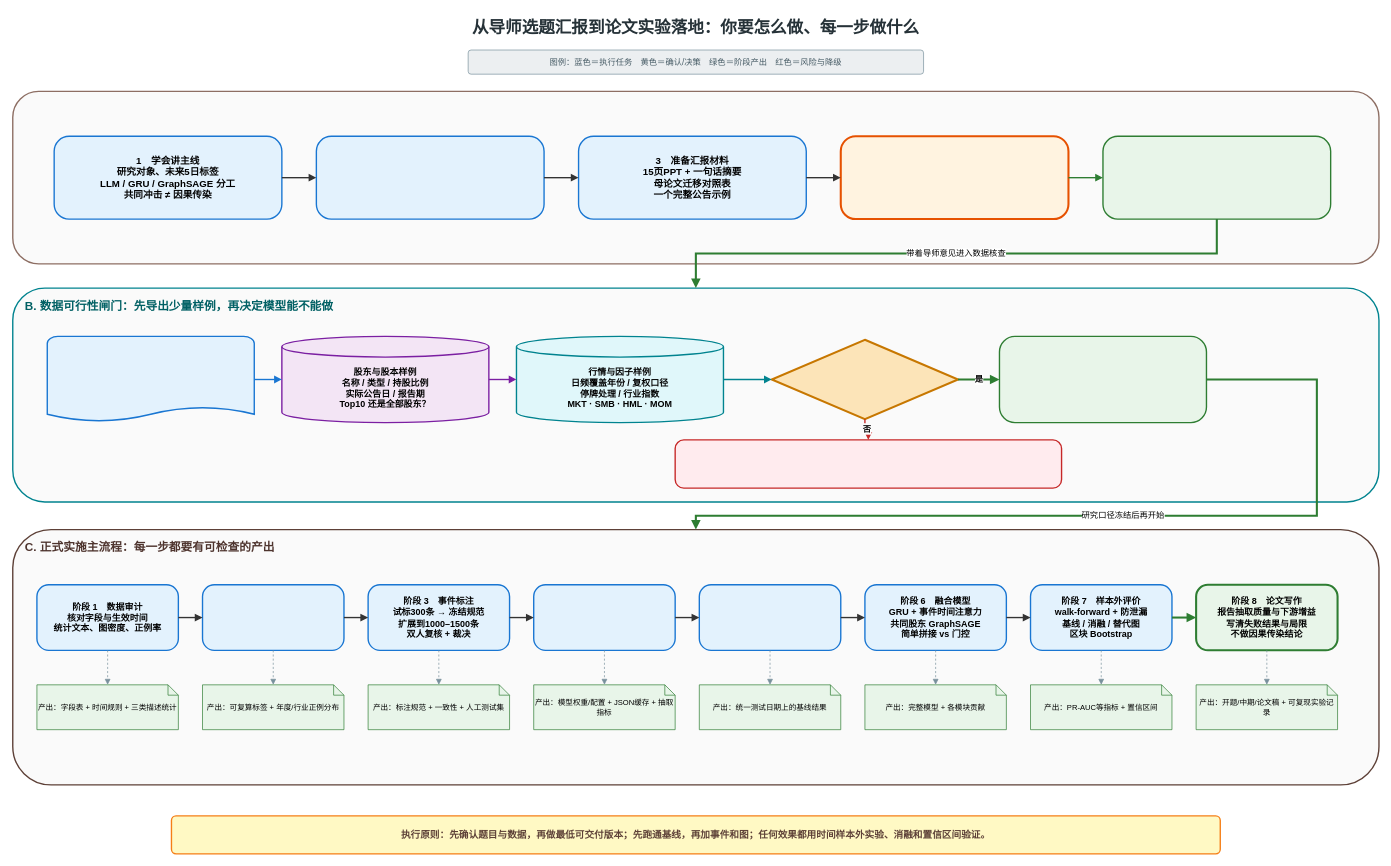
Image size: 1391x866. Some labels were removed from this diagram. Each missing label, with the box of its shape:
2 按顺序看材料 逐页讲解稿 → 汇报PPT AAAI 2025 DGNN-SR ACL 2024 EFSA → 辅助论文: (315, 135, 544, 219)
4 请导师拍板 题目与任务边界是否合适？ DGNN-SR能否作为母论文？ 最低交付与扩展分别是什么？: (839, 135, 1069, 220)
A. 现在到第一次导师汇报：先把问题讲清楚，不急着训练模型: (12, 90, 1379, 264)
事件样例 20–50 条 正文 / 描述可读吗？ 有实际发布时间吗？ 有原因和数值字段吗？: (46, 335, 255, 423)
关键字段足够？ 时间上能严格按“当时可得”对齐？: (770, 338, 959, 420)
否：立即降级，不堆模型 无正文 → 结构化事件标准化；图过稀 → 股东图作为辅助 时间缺失 → 下一交易日生效并披露限制: (674, 439, 1062, 489)
是：冻结研究口径 样本范围 / 预测窗口 / 标签 事件字段 / 股东图规则 最低可交付模型: (998, 335, 1207, 423)
阶段 2 标签构造 滚动因子回归 未来5日残差 CAR 历史10%分位标签: (201, 584, 344, 651)
阶段 4 事件抽取 规则 / BERT / Qwen基线 Qwen3-8B QLoRA 冻结并缓存历史事件: (533, 584, 676, 651)
阶段 5 基础模型 历史频率 / Logistic XGBoost / 无图 GRU 先建立可靠下限: (698, 584, 841, 651)
阶段产出 导师意见原话 + 暂定题目 认可项 / 质疑项 / 否定项 学校模板与截止时间: (1102, 135, 1331, 219)
